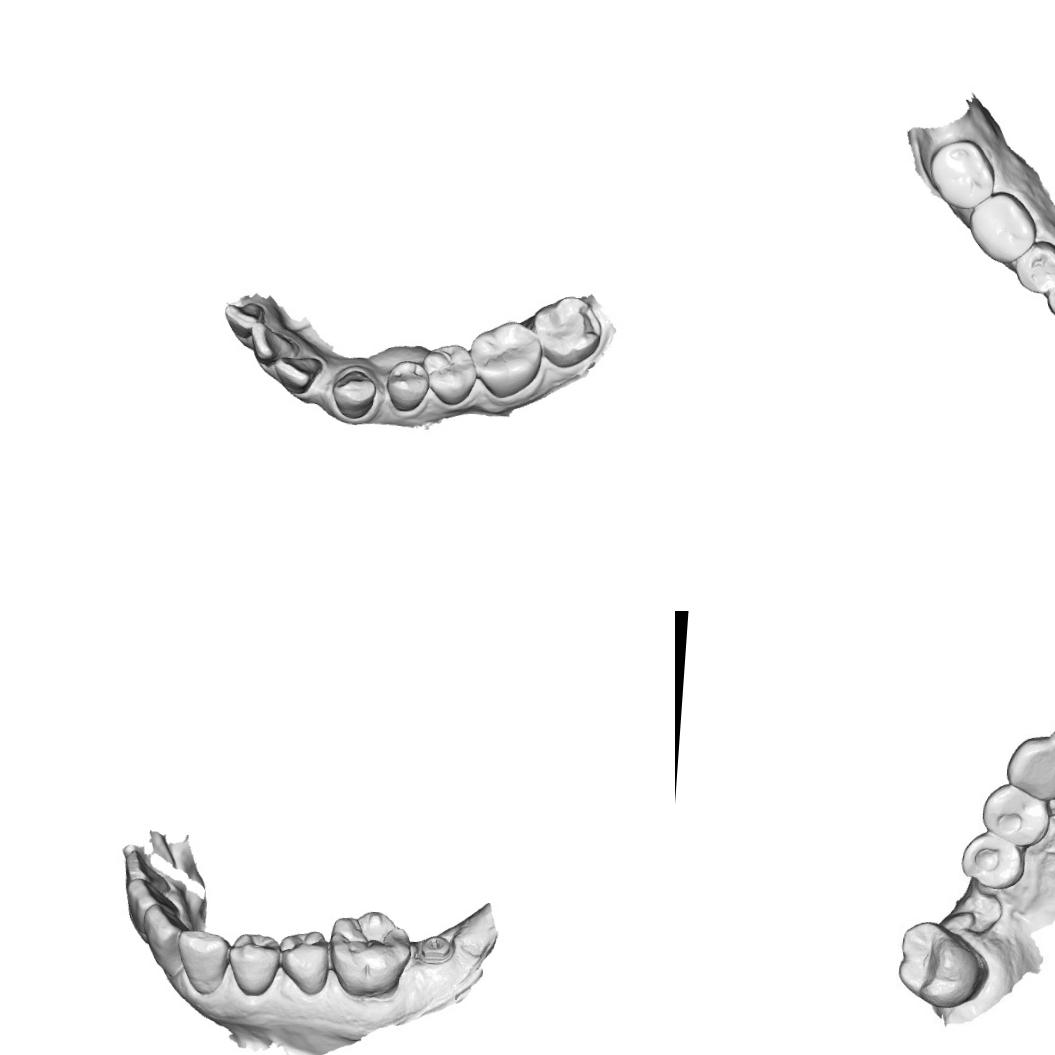canine: (173, 927, 231, 996), (1002, 734, 1055, 805), (327, 367, 378, 420)
implant_minus: (418, 932, 454, 964)
incisor: (138, 902, 186, 978), (270, 351, 324, 396), (120, 848, 173, 892), (247, 322, 296, 364), (221, 298, 265, 339), (123, 876, 158, 926)
molar: (892, 917, 990, 1014), (326, 906, 414, 1001), (465, 317, 544, 401), (964, 187, 1040, 267), (924, 132, 1000, 212), (528, 292, 604, 370)
premolar: (976, 782, 1053, 852), (956, 829, 1032, 893), (418, 340, 480, 408), (224, 929, 282, 998), (276, 928, 332, 996), (1010, 236, 1055, 296), (383, 358, 431, 414), (1043, 273, 1055, 325)
